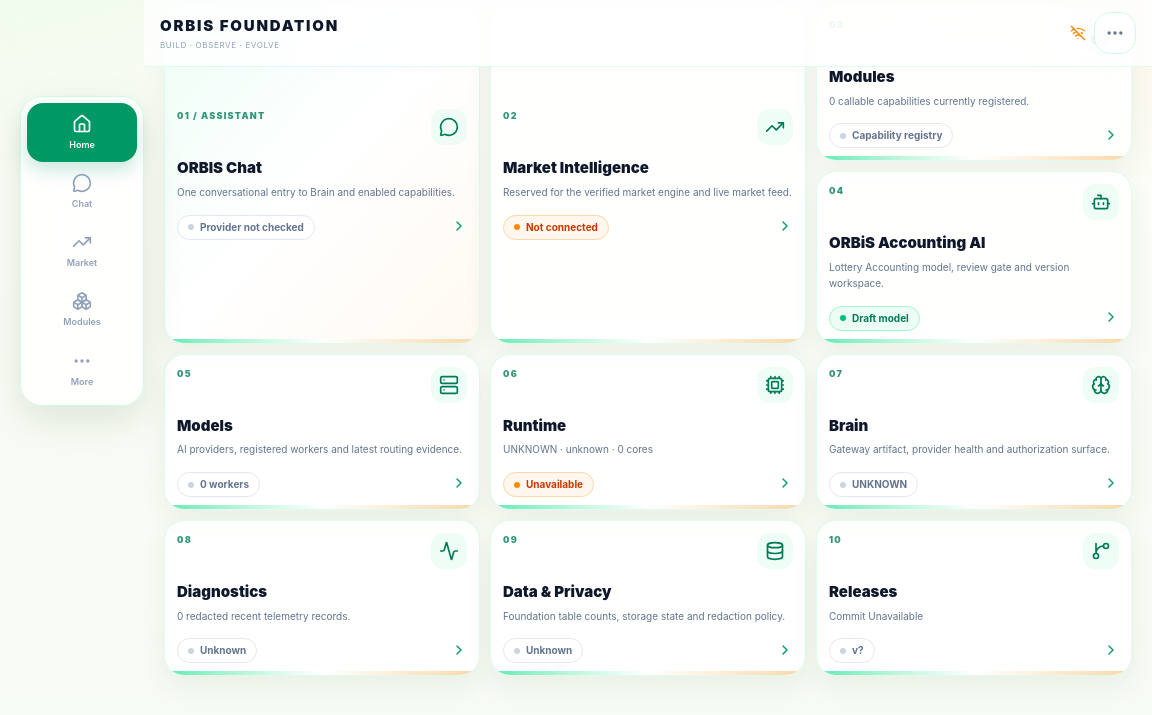
AdminDashboard current control-center coverage › resets scroll when a detail view opens
(page scrolled)
Step 1. Click the button "Runtime" → [648, 507], box [490,354,806,510]
(page scrolled)
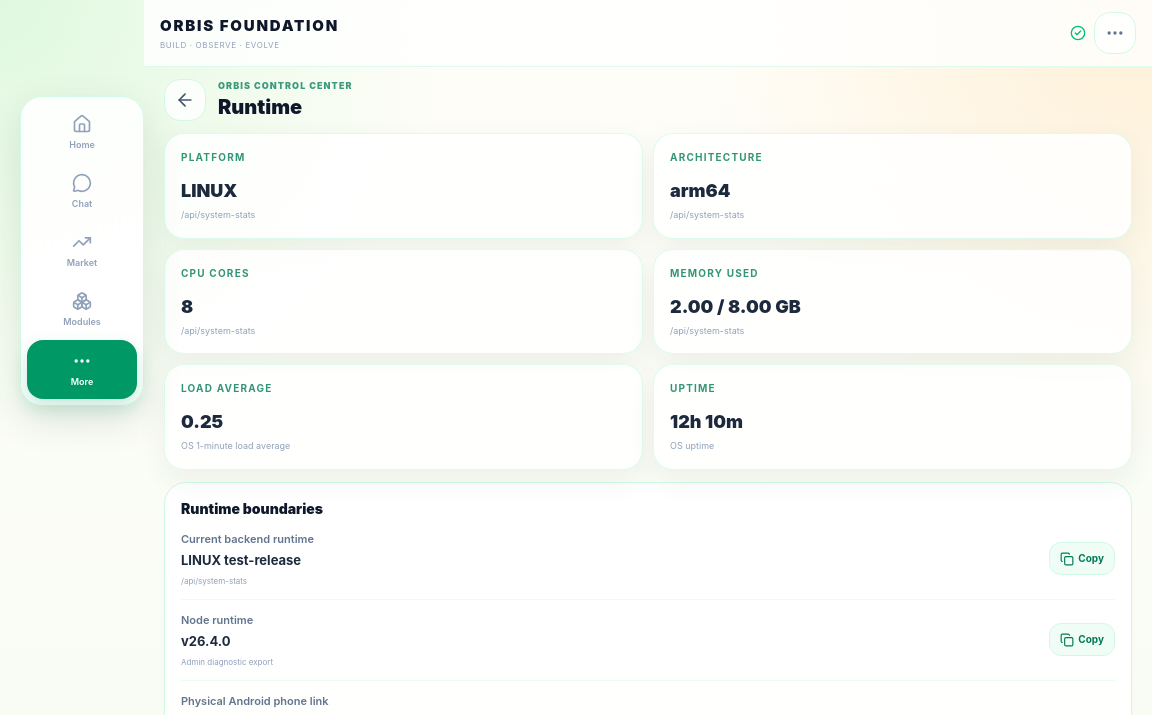
Result: the heading "Runtime" is shown at [218,95,302,119]
